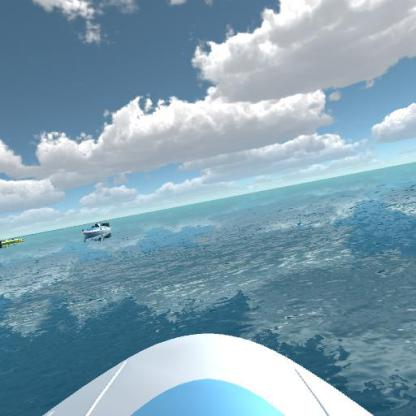usv1: (80, 222, 116, 240)
usv2: (0, 231, 27, 253)
